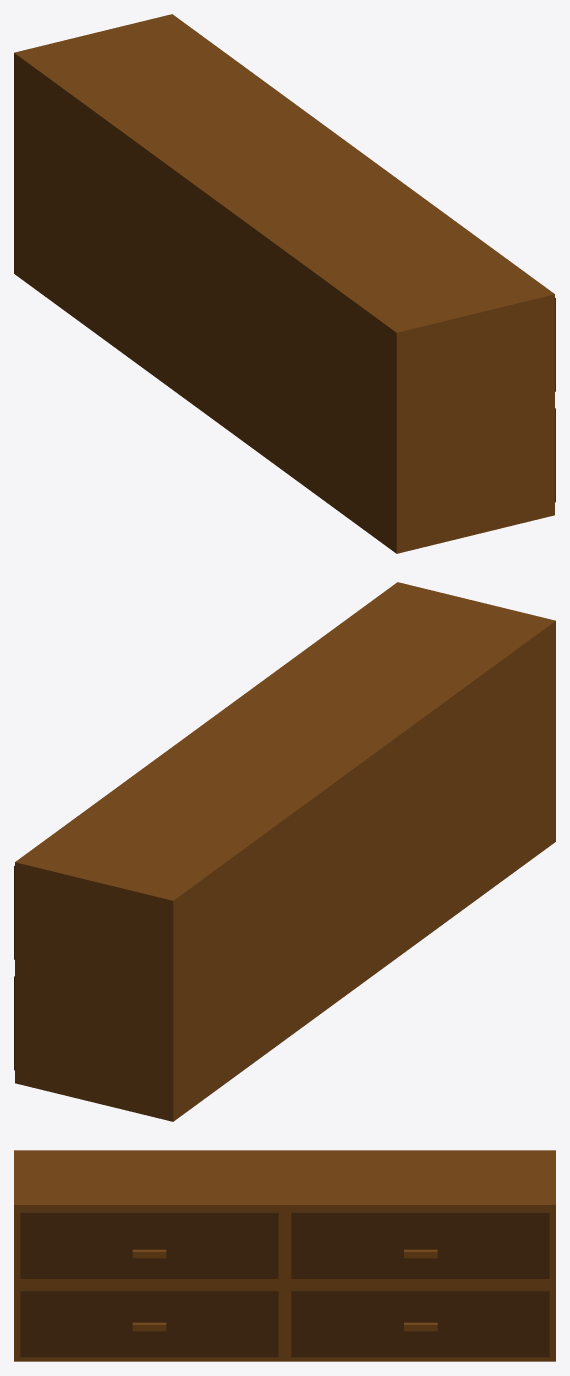
File: laci 6.fbx
3 views of the same model, one above another, from view 1: azimuth 30°, elevation 25°; view 2: azimuth 150°, elevation 25°; view 3: azimuth 270°, elevation 25° (orthographic). The views are drawn at different scales.
Visible parts, largest first — view 1: Cube.002; view 2: Cube.002; view 3: Cube.002.
Part boxes in pixels (<box>): Cube.002: <box>14,14,555,553</box>; Cube.002: <box>14,582,555,1121</box>; Cube.002: <box>14,1150,555,1361</box>.
Size of the model in its own units: 471 by 576 by 1807.
